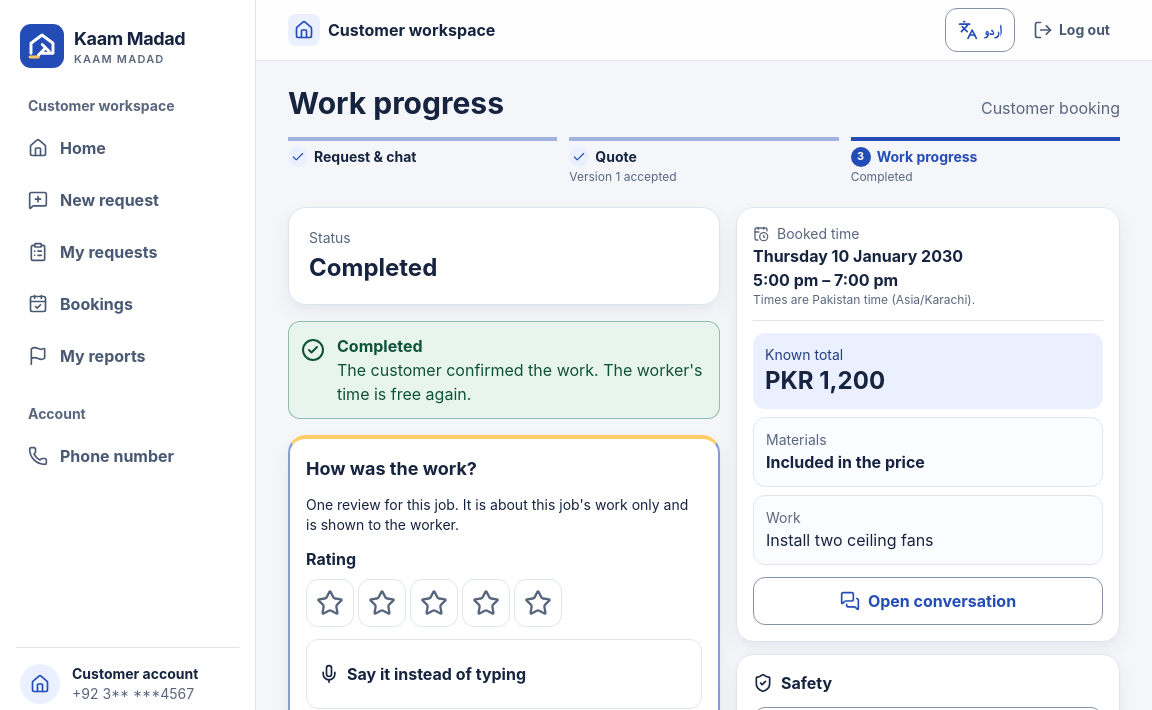
Test: completion › a review refused by the server shows why
Click the radio button named "5 out of 5 stars".
click(538, 603)  # box top-left (514, 579), bottom-right (562, 627)
(page scrolled)
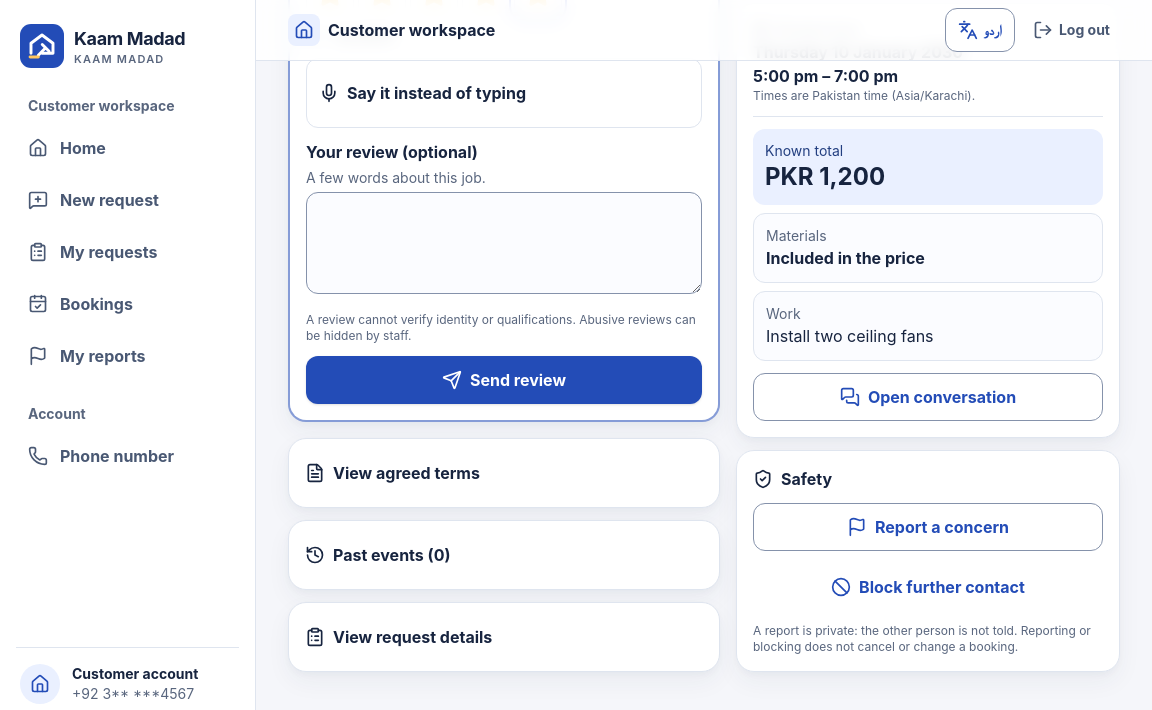
Click the button "Send review".
click(504, 380)  # box top-left (306, 356), bottom-right (702, 404)
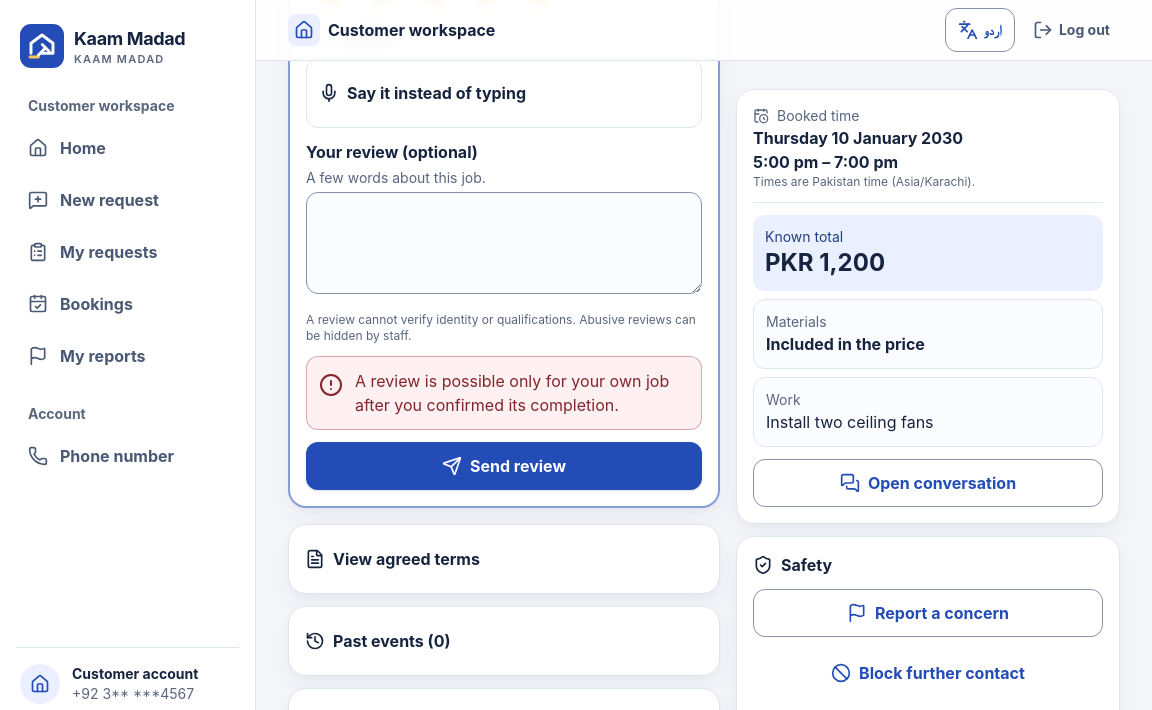
Expected: the text "A review is possible only for your own job after you confirmed its completion." is shown, top-left (355, 369), bottom-right (689, 417)
